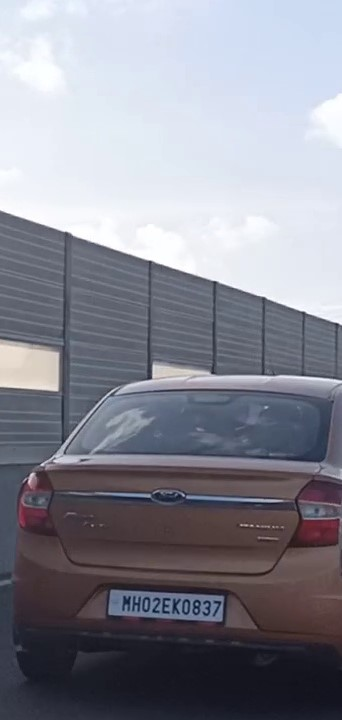MH02EK0837: (106, 587, 226, 624)
